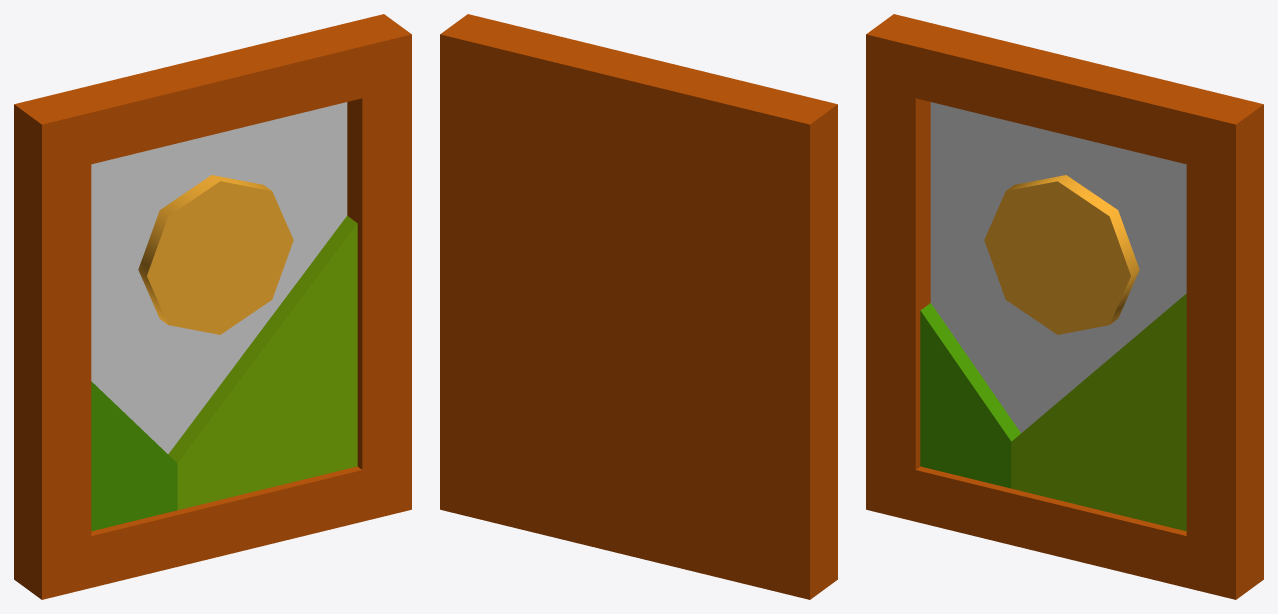
The model's file is Wall_Painting_01.fbx.
The picture shows the model from 3 angles, left to right: view 1: azimuth 30°, elevation 25°; view 2: azimuth 150°, elevation 25°; view 3: azimuth 330°, elevation 25°; orthographic projection.
Visible parts, largest first — view 1: Wall_Painting_01; view 2: Wall_Painting_01; view 3: Wall_Painting_01.
Boxes of the visible parts, <box> form: Wall_Painting_01: <box>14,14,411,599</box>; Wall_Painting_01: <box>440,14,837,599</box>; Wall_Painting_01: <box>866,14,1263,599</box>.
Size of the model in its own units: 61.4 by 75.39 by 8.01.
